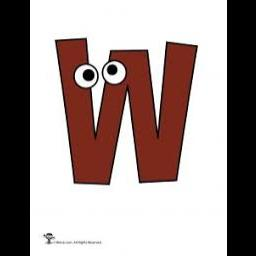w: (39, 36, 211, 198)
